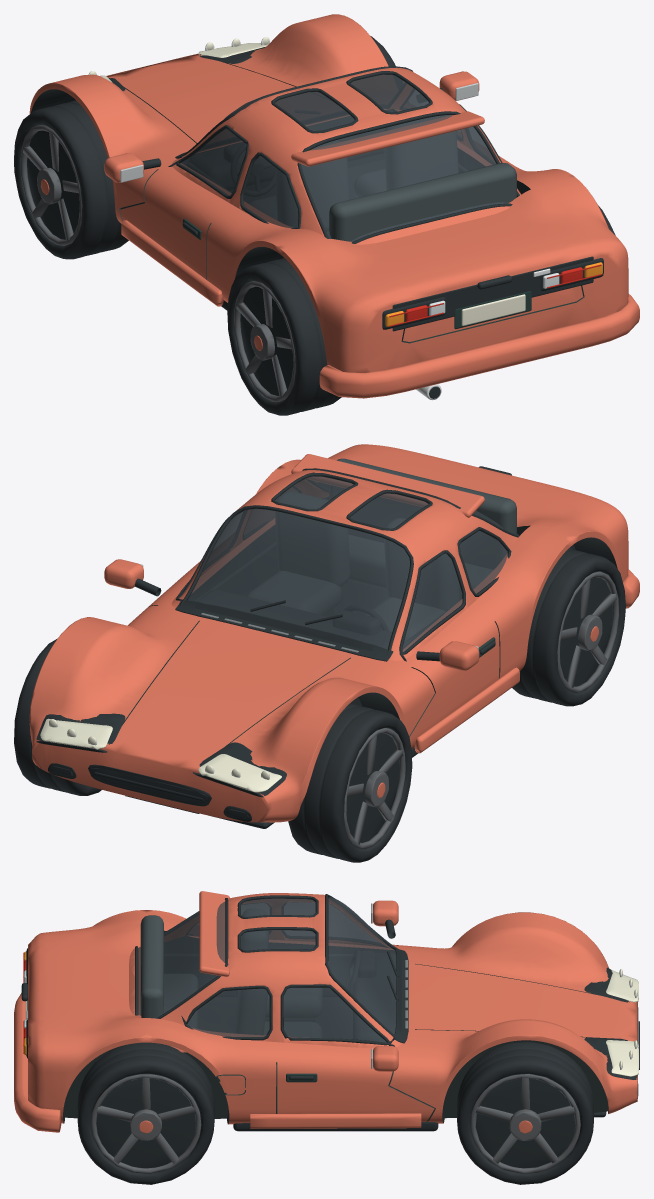
Rendered from arashi_lod1.fbx.
3 views of the same model, one above another, from view 1: azimuth 30°, elevation 25°; view 2: azimuth 150°, elevation 25°; view 3: azimuth 270°, elevation 25° (orthographic). The views are drawn at different scales.
Parts seen in each view (by area): view 1: Body, Wheel_FL_Mesh, Wheel_RL_Mesh; view 2: Body, Wheel_FL_Mesh, Wheel_RL_Mesh, Wheel_FR_Mesh; view 3: Body, Wheel_FR_Mesh, Wheel_RR_Mesh.
Part boxes in pixels (<box>): Body: <box>29,14,639,400</box>; Wheel_FL_Mesh: <box>14,100,128,259</box>; Wheel_RL_Mesh: <box>227,258,341,415</box>; Body: <box>29,444,639,828</box>; Wheel_FL_Mesh: <box>288,703,412,862</box>; Wheel_RL_Mesh: <box>512,548,625,706</box>; Wheel_FR_Mesh: <box>14,639,101,795</box>; Body: <box>14,891,639,1132</box>; Wheel_FR_Mesh: <box>457,1041,593,1184</box>; Wheel_RR_Mesh: <box>77,1042,214,1184</box>.
Bounding box in the file's own units: 241 × 138 × 403.
